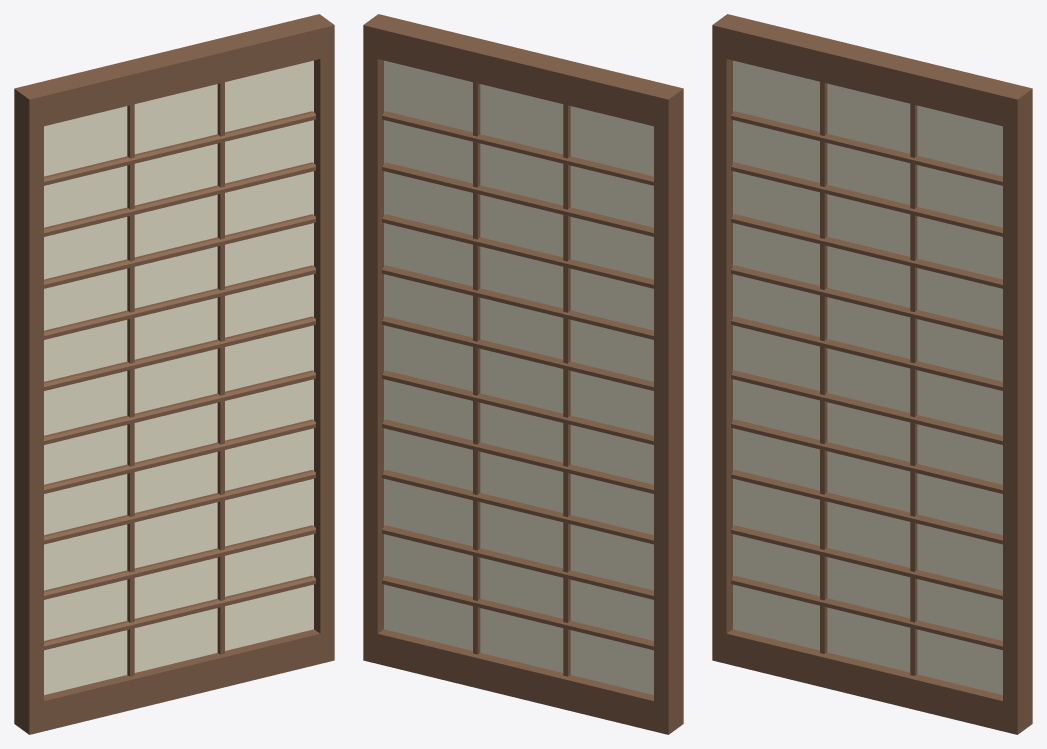
The model's file is Door2.fbx.
3 renders of one model, left to right at view 1: azimuth 30°, elevation 25°; view 2: azimuth 150°, elevation 25°; view 3: azimuth 330°, elevation 25°, orthographic.
Parts seen in each view (by area): view 1: paper2, frame, sticks; view 2: paper2, frame, sticks; view 3: paper2, frame, sticks.
Part boxes in pixels (x1=…): paper2: x1=44, y1=60, x2=313, y2=694; frame: x1=14, y1=14, x2=334, y2=734; sticks: x1=44, y1=82, x2=315, y2=676; paper2: x1=384, y1=60, x2=653, y2=694; frame: x1=363, y1=14, x2=683, y2=734; sticks: x1=382, y1=82, x2=653, y2=676; paper2: x1=733, y1=60, x2=1002, y2=694; frame: x1=712, y1=14, x2=1032, y2=734; sticks: x1=731, y1=82, x2=1002, y2=675.
Size of the model in its own units: 190 by 377 by 16.39.
